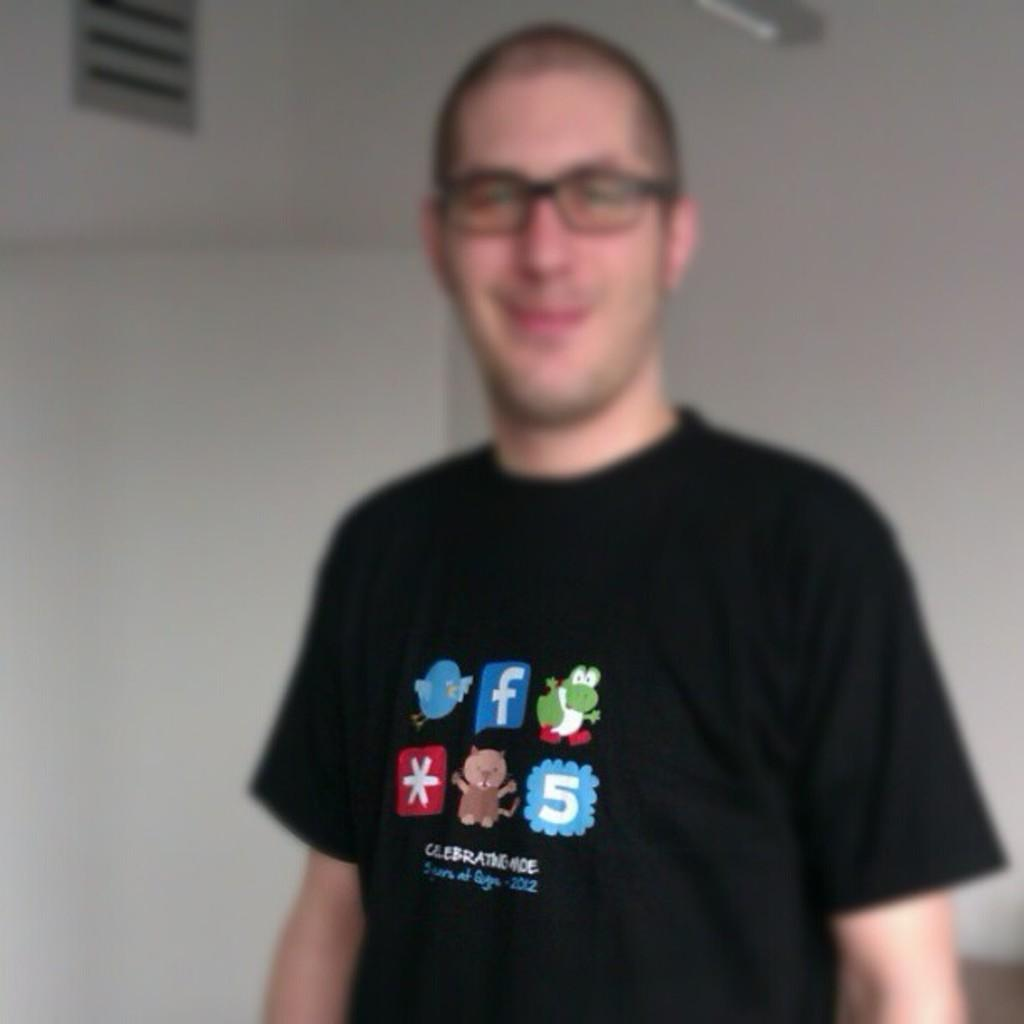Sem Máscara: (436, 72, 665, 418)
